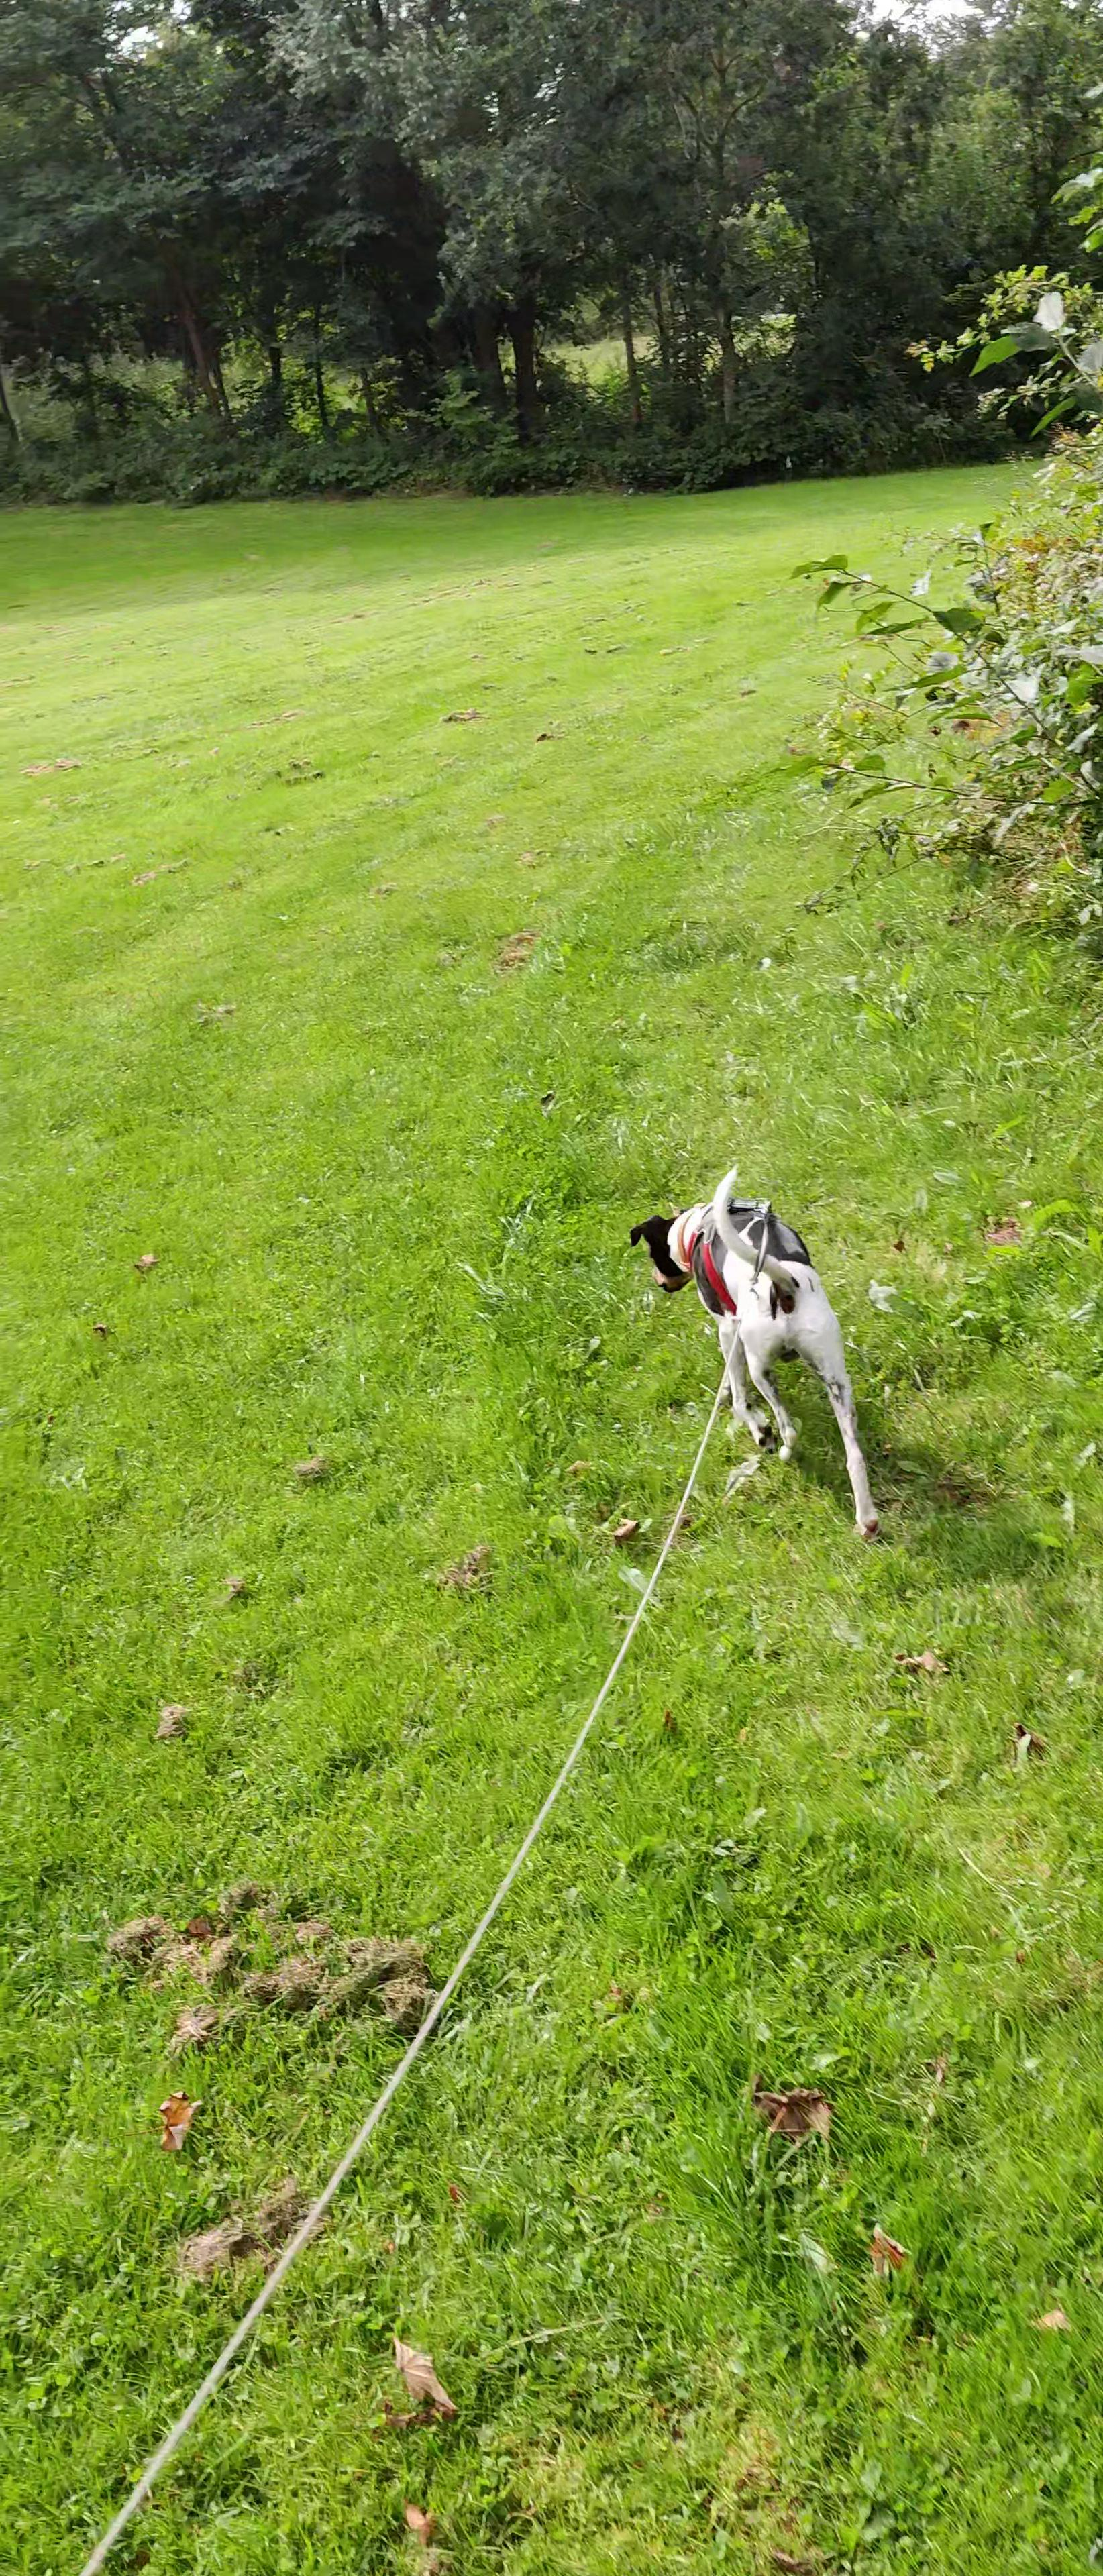Dog: (623, 1163, 879, 1548)
